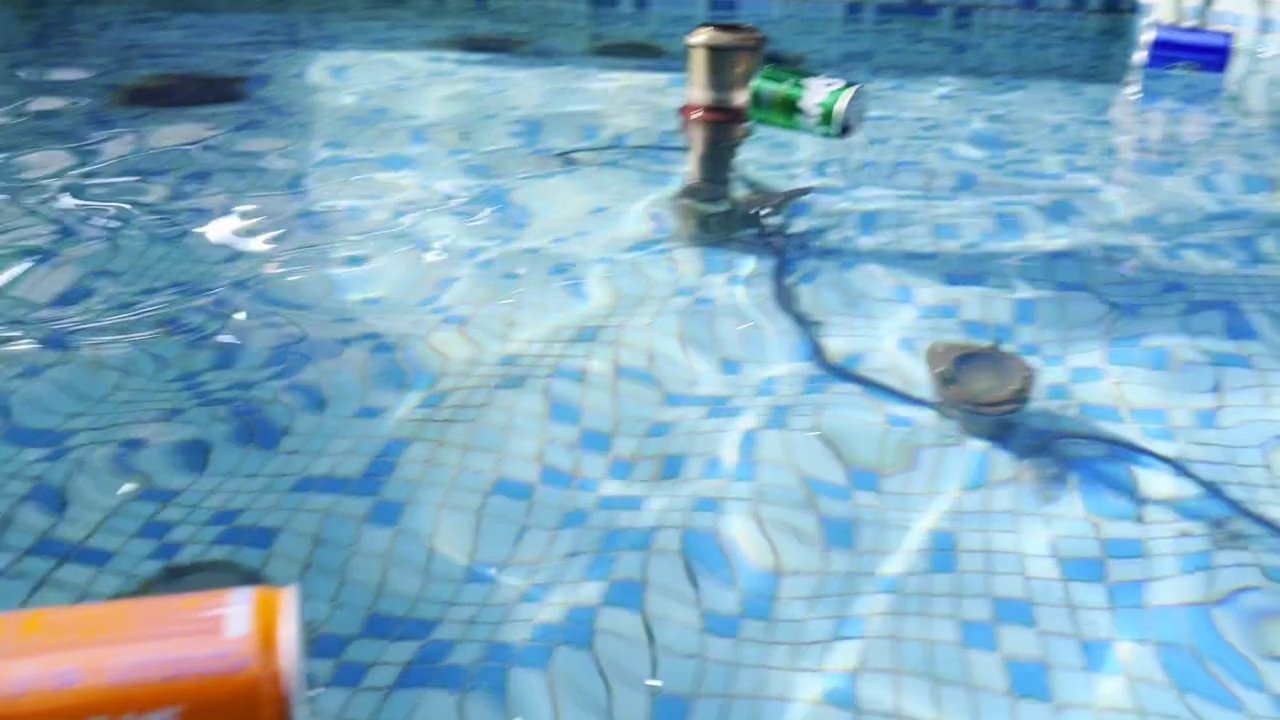debris: (0, 563, 332, 720), (737, 47, 870, 149), (1129, 10, 1241, 89)
